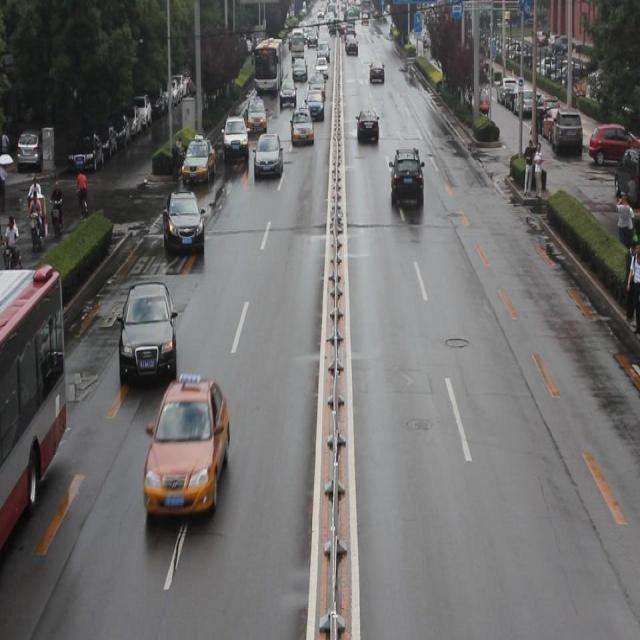car: (145, 370, 230, 512), (118, 282, 177, 381), (164, 191, 204, 252), (388, 147, 423, 207), (183, 134, 216, 184), (252, 135, 284, 177), (222, 114, 248, 160), (290, 108, 314, 144), (356, 109, 379, 143), (245, 98, 266, 133), (304, 92, 324, 120)
van: (1, 266, 66, 554)
